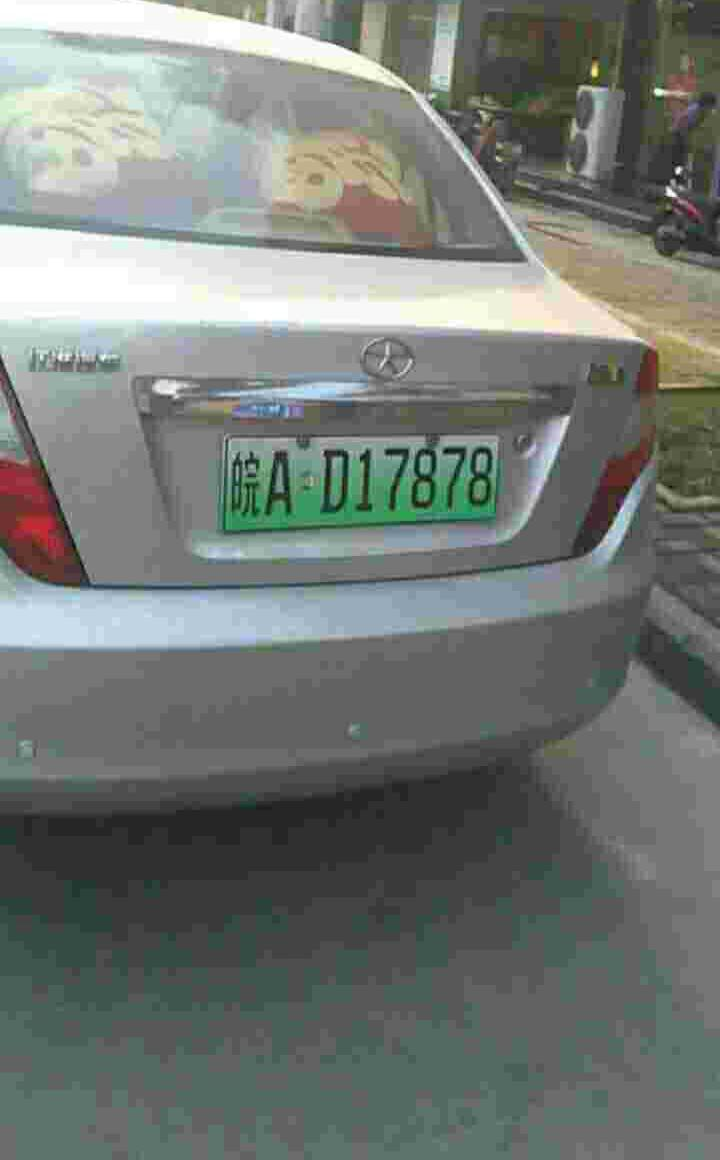car: (220, 430, 506, 525)
